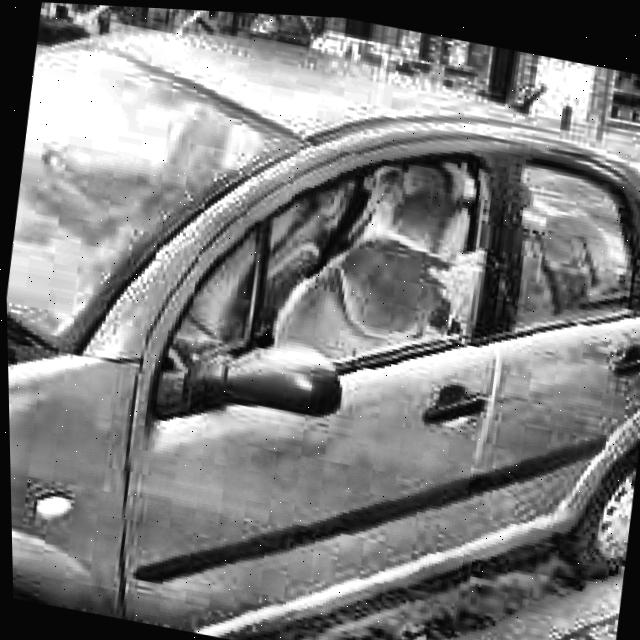glass_shatter: (326, 151, 496, 369)
